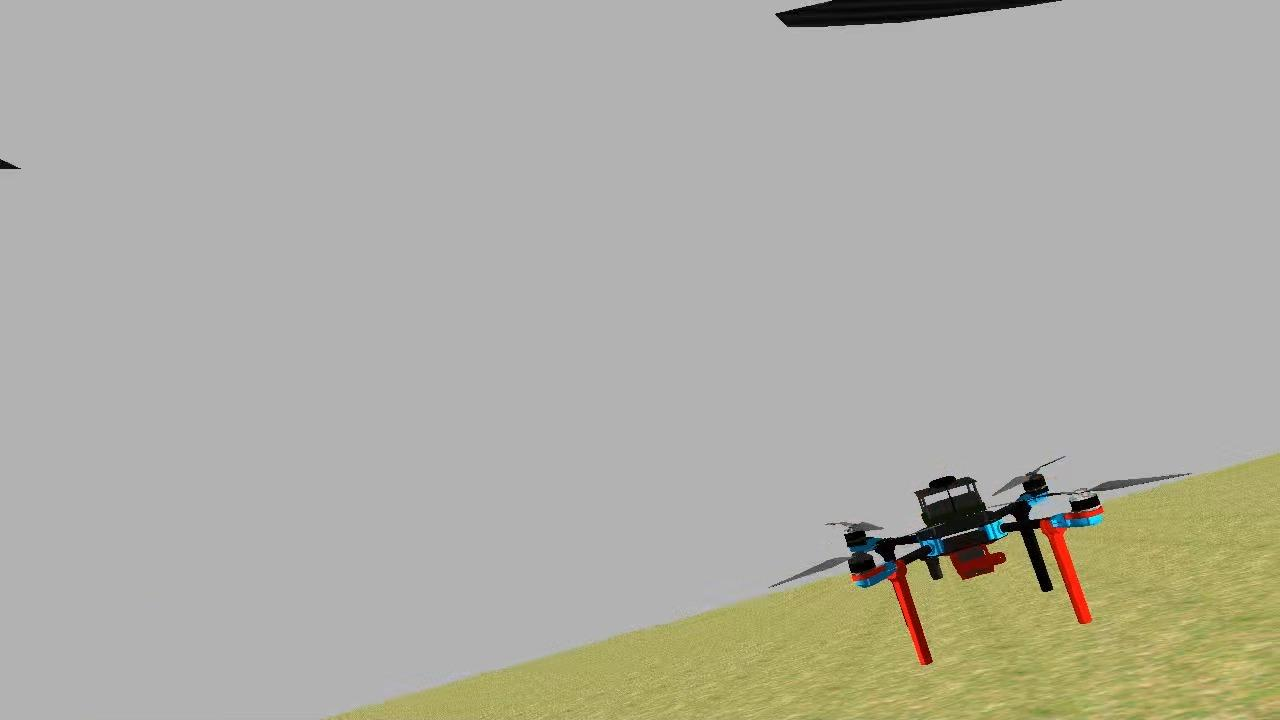UAV: (828, 457, 1110, 669)
